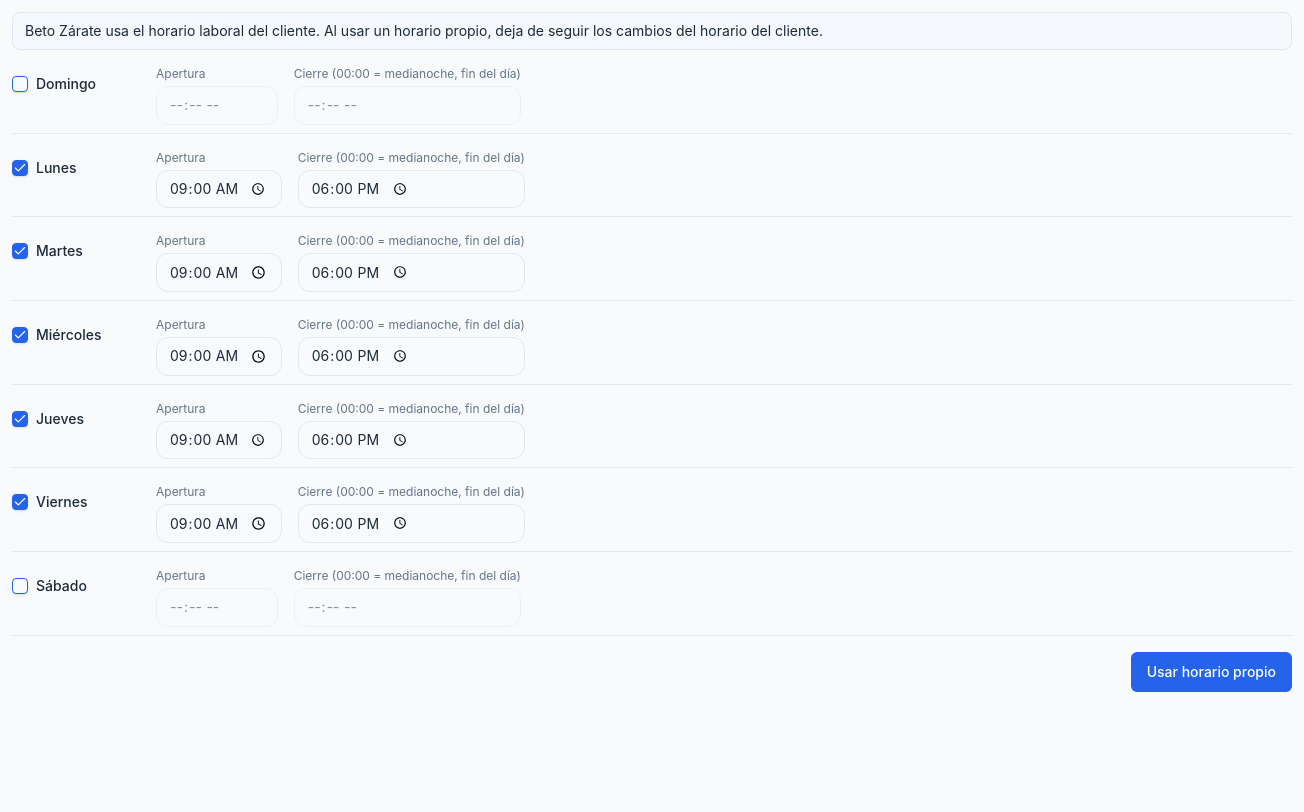
HorarioLaboralUsuarioPanel (tiempo-tecnico T2, pedidos-2026-10-26 S6) › Usar horario propio hace el PUT del técnico con los valores de la grilla y pasa a horario propio
Check: the button "Usar horario propio" is shown, box [1131,652,1292,692]
What coordinates should you click on to do the following:
click the checkbox named "Viernes" next to "Viernes"
I would click on:
 (20, 502)
Its box is [12,494,28,510].
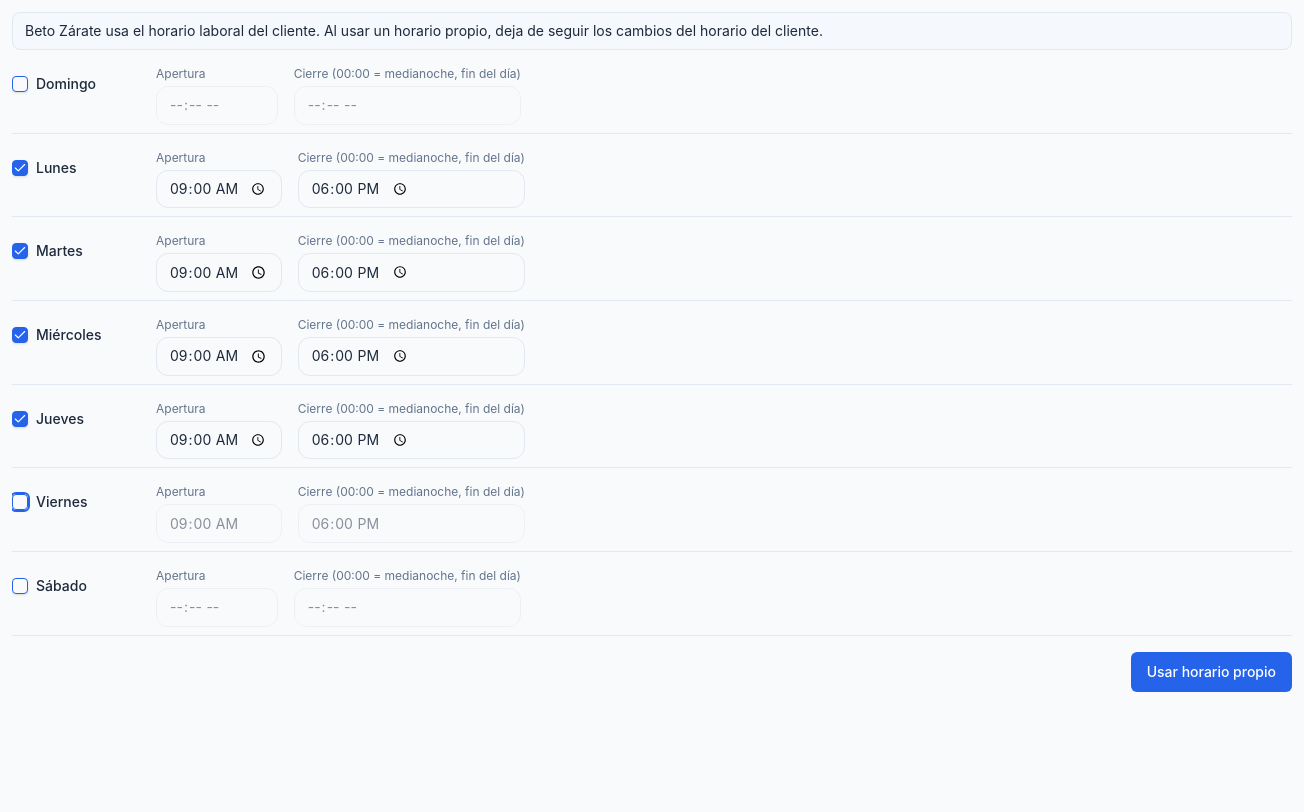
What coordinates should you click on to do the following:
click the button "Usar horario propio"
I would click on:
 (1211, 672)
Its box is [1131,652,1292,692].
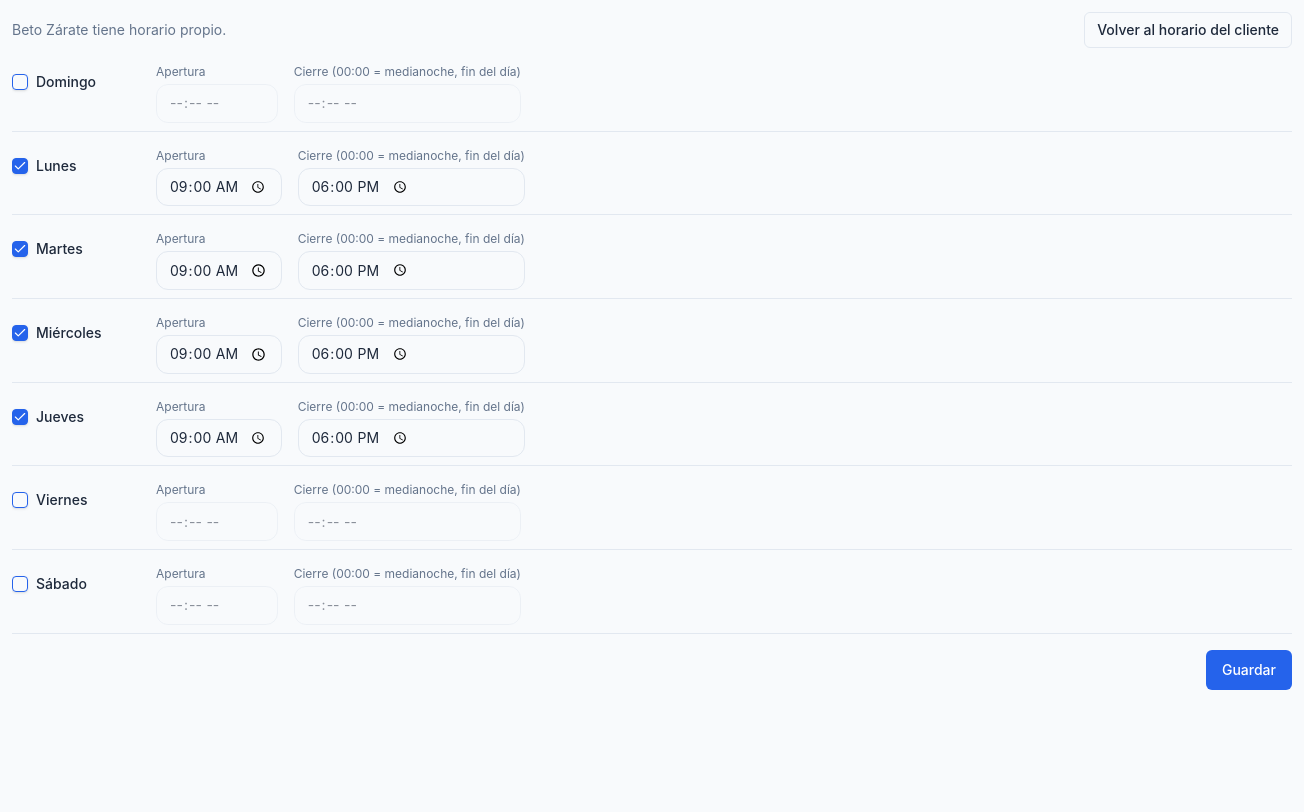
Check: the checkbox named "Viernes" next to "Viernes" is not checked, box [12,492,28,508]
Check: the text "Beto Zárate tiene horario propio." is shown, box [12,20,226,40]
Check: the text "Beto Zárate usa el horario laboral del cliente" is gone
